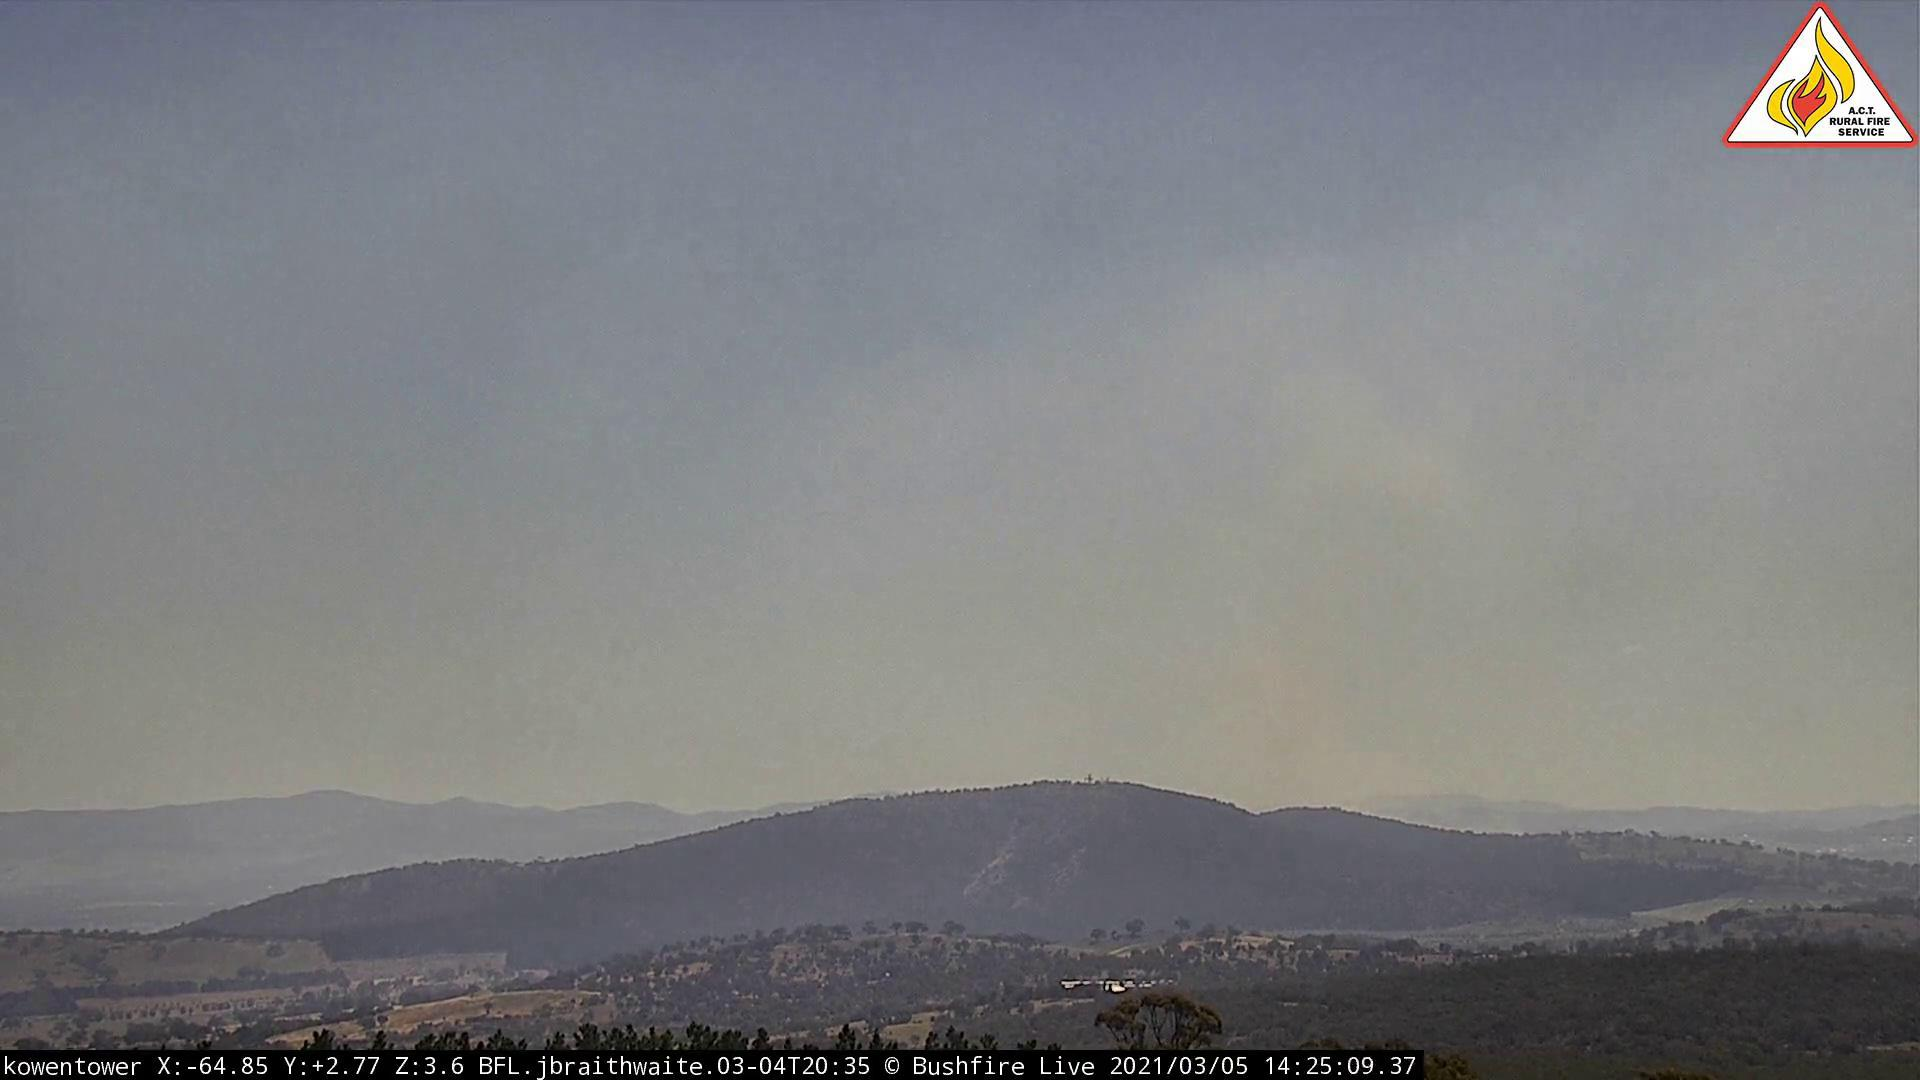Smoke: (1145, 351, 1519, 833)
